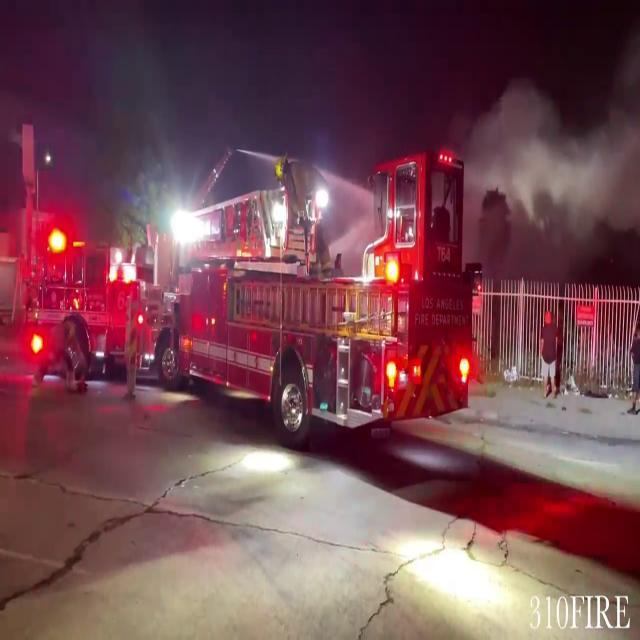Smoke: (469, 43, 640, 224)
